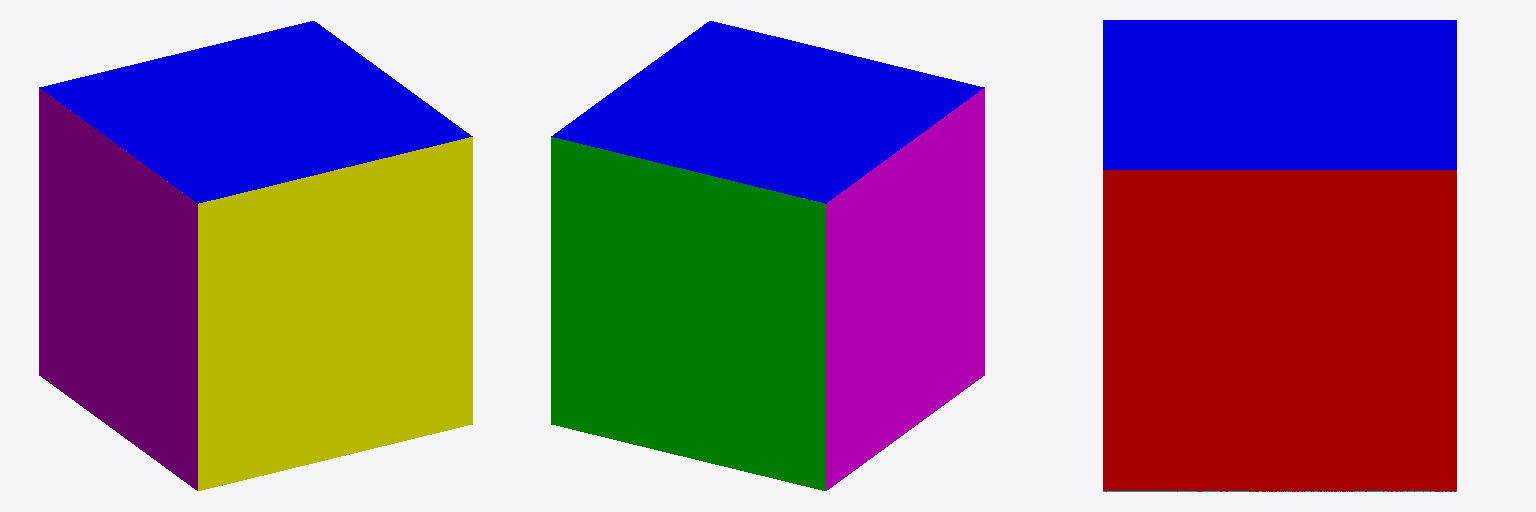
The robot description file, URDF, robot "dex_cube":
<?xml version="1.0"?>
<!-- 1 m cube centered at the link origin; each face has its own material for visual debugging/orientation.  -->
<robot name="dex_cube">
  <link name="cube">

    <!-- Solid collision (single box) -->
    <collision>
      <origin xyz="0 0 0" rpy="0 0 0"/>
      <geometry>
        <box size="1 1 1"/>
      </geometry>
    </collision>

    <!-- Six thin face shells (s = 1, eps = 0.0001) -->
    <visual>
      <origin xyz="0.49995 0 0" rpy="0 0 0"/>
      <geometry>
        <box size="0.0001 1 1"/>
      </geometry>
      <material name="face_pos_x">
        <color rgba="1 0 0 1"/>
      </material>
    </visual>
    <visual>
      <origin xyz="-0.49995 0 0" rpy="0 0 0"/>
      <geometry>
        <box size="0.0001 1 1"/>
      </geometry>
      <material name="face_neg_x">
        <color rgba="1 0 1 1"/>
      </material>
    </visual>
    <visual>
      <origin xyz="0 0.49995 0" rpy="0 0 0"/>
      <geometry>
        <box size="1 0.0001 1"/>
      </geometry>
      <material name="face_pos_y">
        <color rgba="0 1 0 1"/>
      </material>
    </visual>
    <visual>
      <origin xyz="0 -0.49995 0" rpy="0 0 0"/>
      <geometry>
        <box size="1 0.0001 1"/>
      </geometry>
      <material name="face_neg_y">
        <color rgba="1 1 0 1"/>
      </material>
    </visual>
    <visual>
      <origin xyz="0 0 0.49995" rpy="0 0 0"/>
      <geometry>
        <box size="1 1 0.0001"/>
      </geometry>
      <material name="face_pos_z">
        <color rgba="0 0 1 1"/>
      </material>
    </visual>
    <visual>
      <origin xyz="0 0 -0.49995" rpy="0 0 0"/>
      <geometry>
        <box size="1 1 0.0001"/>
      </geometry>
      <material name="face_neg_z">
        <color rgba="0 1 1 1"/>
      </material>
    </visual>
  </link>
</robot>

--- What the picture shows (computed from the rendered views, not written in the file) ---
3 views of the same robot in one strip: view 1: azimuth 30°, elevation 25°; view 2: azimuth 150°, elevation 25°; view 3: azimuth 270°, elevation 25° (orthographic).
Robot: dex_cube — 1 links, 0 joints (none); root link cube; default pose: all joints at 0.
Visible links, largest first — view 1: cube; view 2: cube; view 3: cube.
Boxes of the visible links, x1=… form: cube: x1=39, y1=21, x2=472, y2=490; cube: x1=551, y1=21, x2=984, y2=490; cube: x1=1103, y1=20, x2=1456, y2=491.
Size in the robot's own frame: 1 by 1 by 1 metres.
Geometry: primitives only (box / cylinder / sphere), no mesh files.
